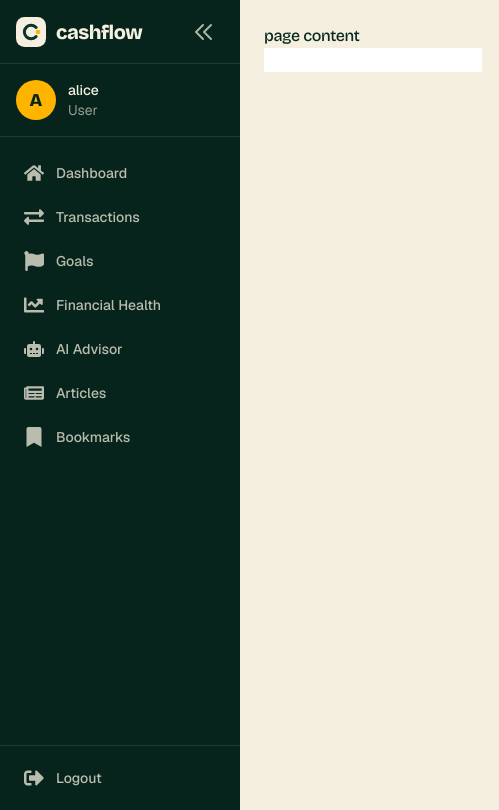
Sidebar (wide screen) › tells assistive technology whether it is expanded (aria-expanded on the toggle)
The image size is (499, 810).
Click the button named "Collapse sidebar" at (204,32), box [184,12,224,52]
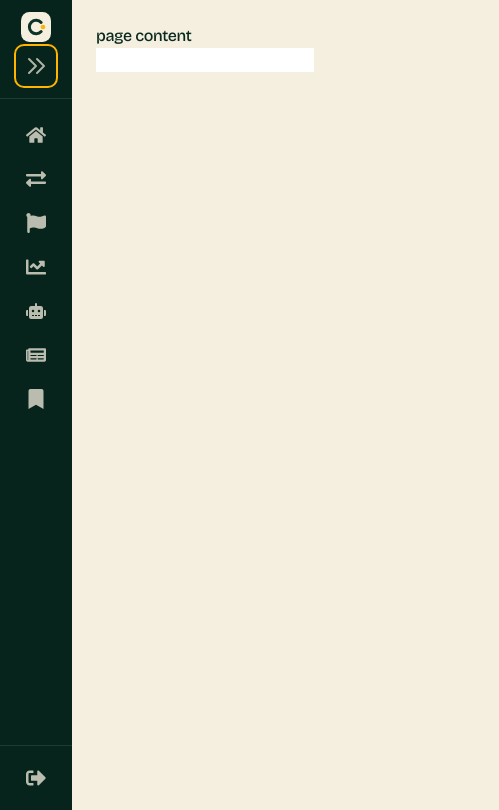
Expected: the button named "Expand sidebar" is collapsed, [16,46,56,86]
